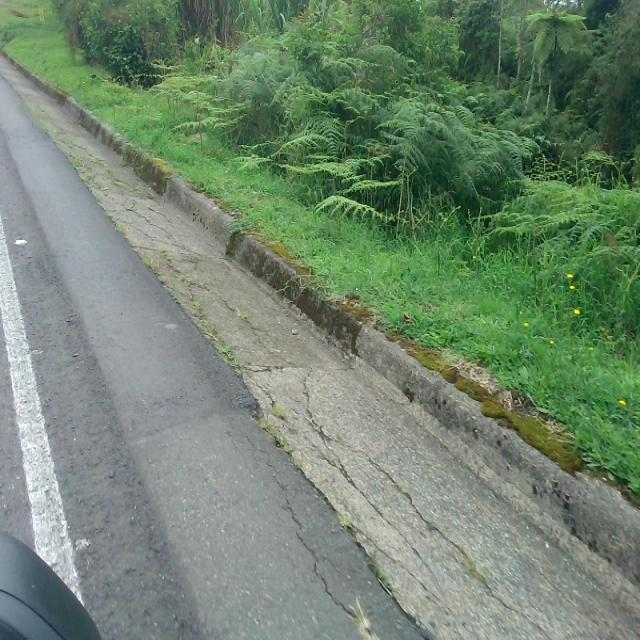DITCH: (1, 46, 638, 638), (1, 96, 638, 638)
